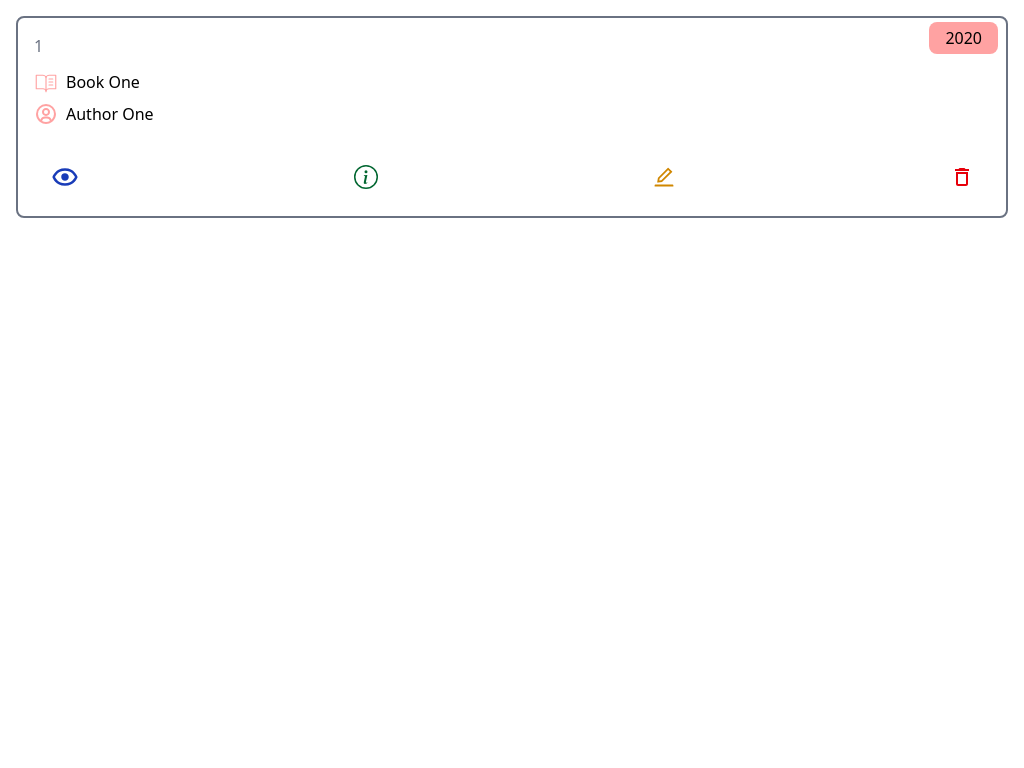
Scenario: BookSingleCard › opens modal on show button click
This screenshot has width=1024, height=768.
Click the button named "show book details" at (65, 177), box [50,162,80,192]
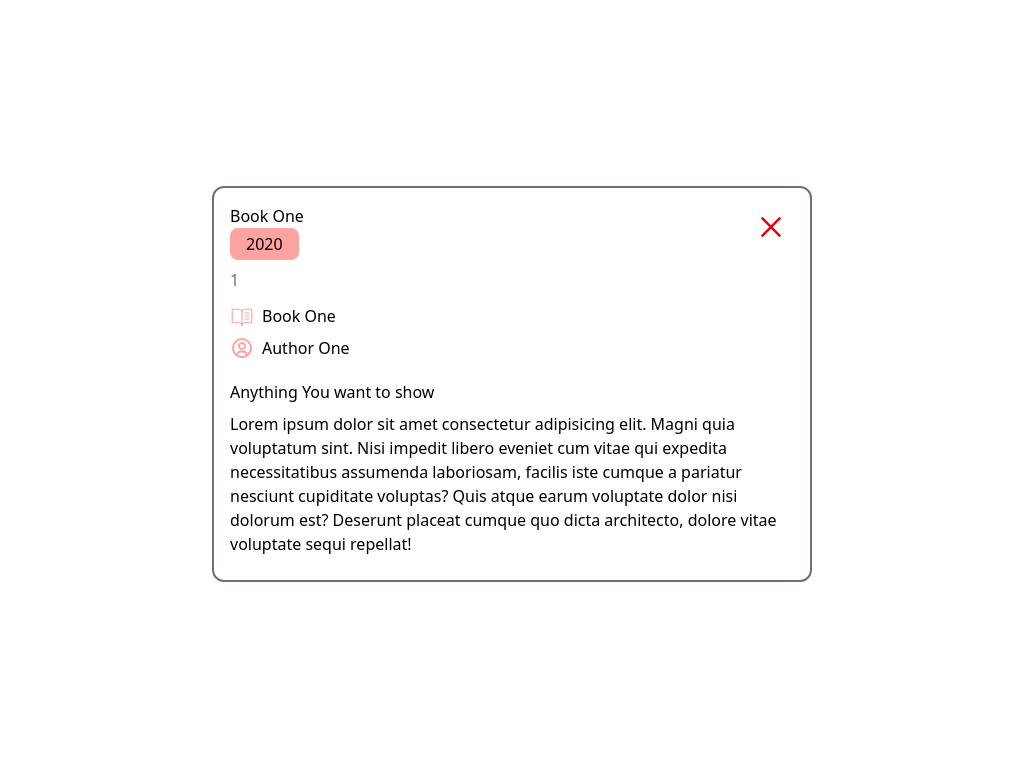
expect the element with test id "modal-content" is shown: met, box [212,186,812,582]
expect the 2nd heading "Book One" is shown: met, box [262,304,336,328]
